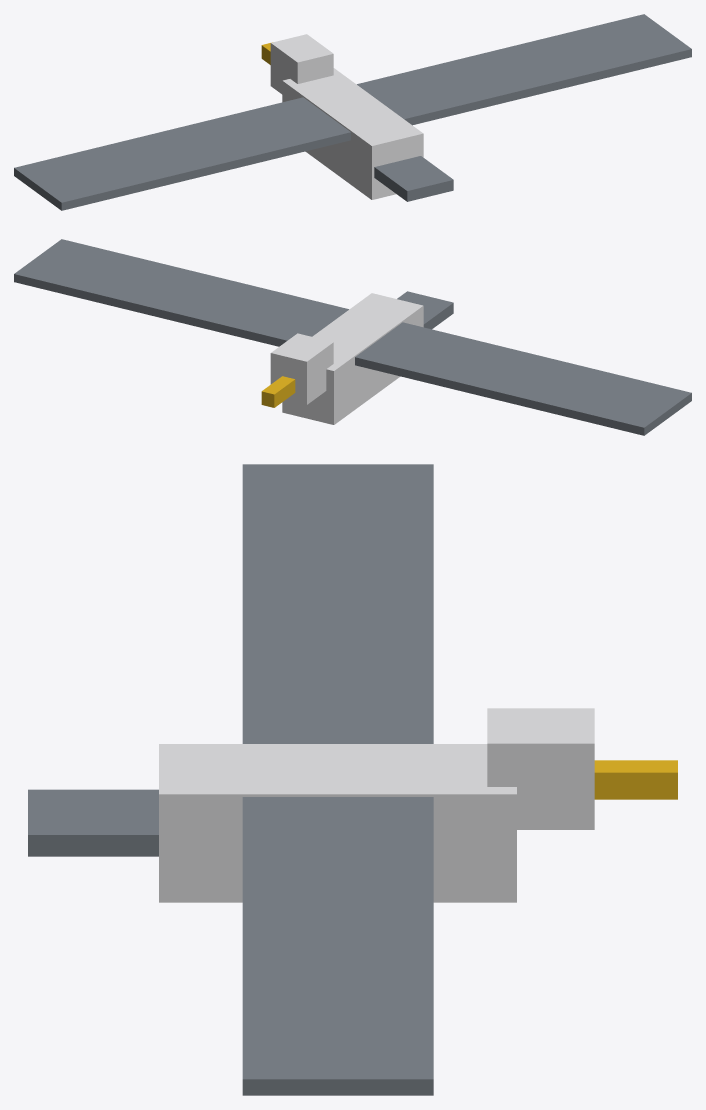
File: seagull.glb
3 renders of one model, top to bottom at view 1: azimuth 30°, elevation 25°; view 2: azimuth 150°, elevation 25°; view 3: azimuth 270°, elevation 25°, orthographic. The views are drawn at different scales.
Visible parts, largest first — view 1: seagull_Wing_L, seagull_Wing_R, seagull_Body; view 2: seagull_Wing_L, seagull_Wing_R, seagull_Body; view 3: seagull_Body, seagull_Wing_R, seagull_Wing_L.
Part boxes in pixels (x1,y1,x2,y2): seagull_Wing_L: (14, 97, 350, 210); seagull_Wing_R: (357, 14, 691, 125); seagull_Body: (261, 34, 453, 201); seagull_Wing_L: (355, 322, 691, 435); seagull_Wing_R: (14, 239, 348, 346); seagull_Body: (261, 291, 453, 424); seagull_Body: (28, 708, 677, 902); seagull_Wing_R: (242, 797, 433, 1095); seagull_Wing_L: (242, 464, 433, 743).
Bounding box in the file's own units: 1.22 × 0.14 × 0.545.
